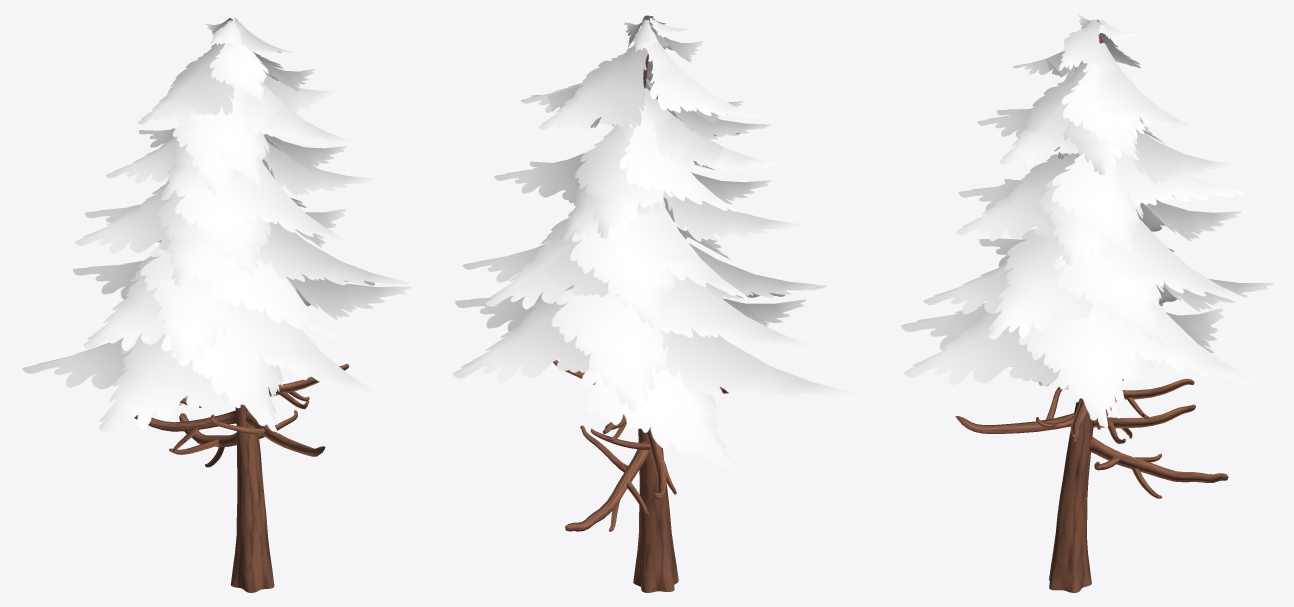
The model's file is pine-1.glb.
3 renders of one model, left to right at view 1: azimuth 30°, elevation 25°; view 2: azimuth 150°, elevation 25°; view 3: azimuth 270°, elevation 25°, orthographic. The views are drawn at different scales.
Parts seen in each view (by area): view 1: tree_028; view 2: tree_028; view 3: tree_028.
Part boxes in pixels (x1,y1,x2,y2): tree_028: [22, 18, 411, 592]; tree_028: [453, 15, 856, 592]; tree_028: [901, 14, 1273, 592].
Size of the model in its own units: 4.94 by 7.32 by 4.54.
2 materials, 2 textured.
